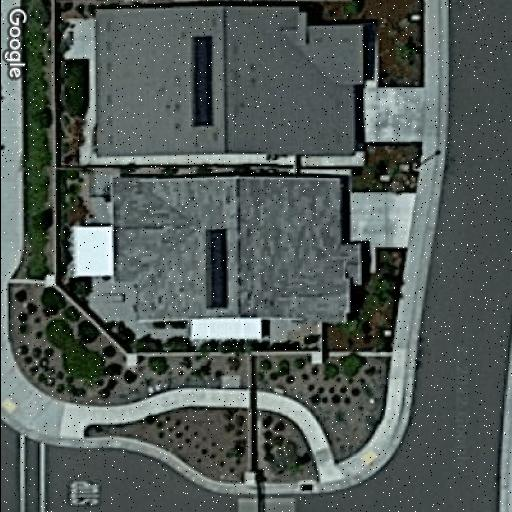solar-panel: (190, 36, 214, 128), (204, 228, 228, 310)
